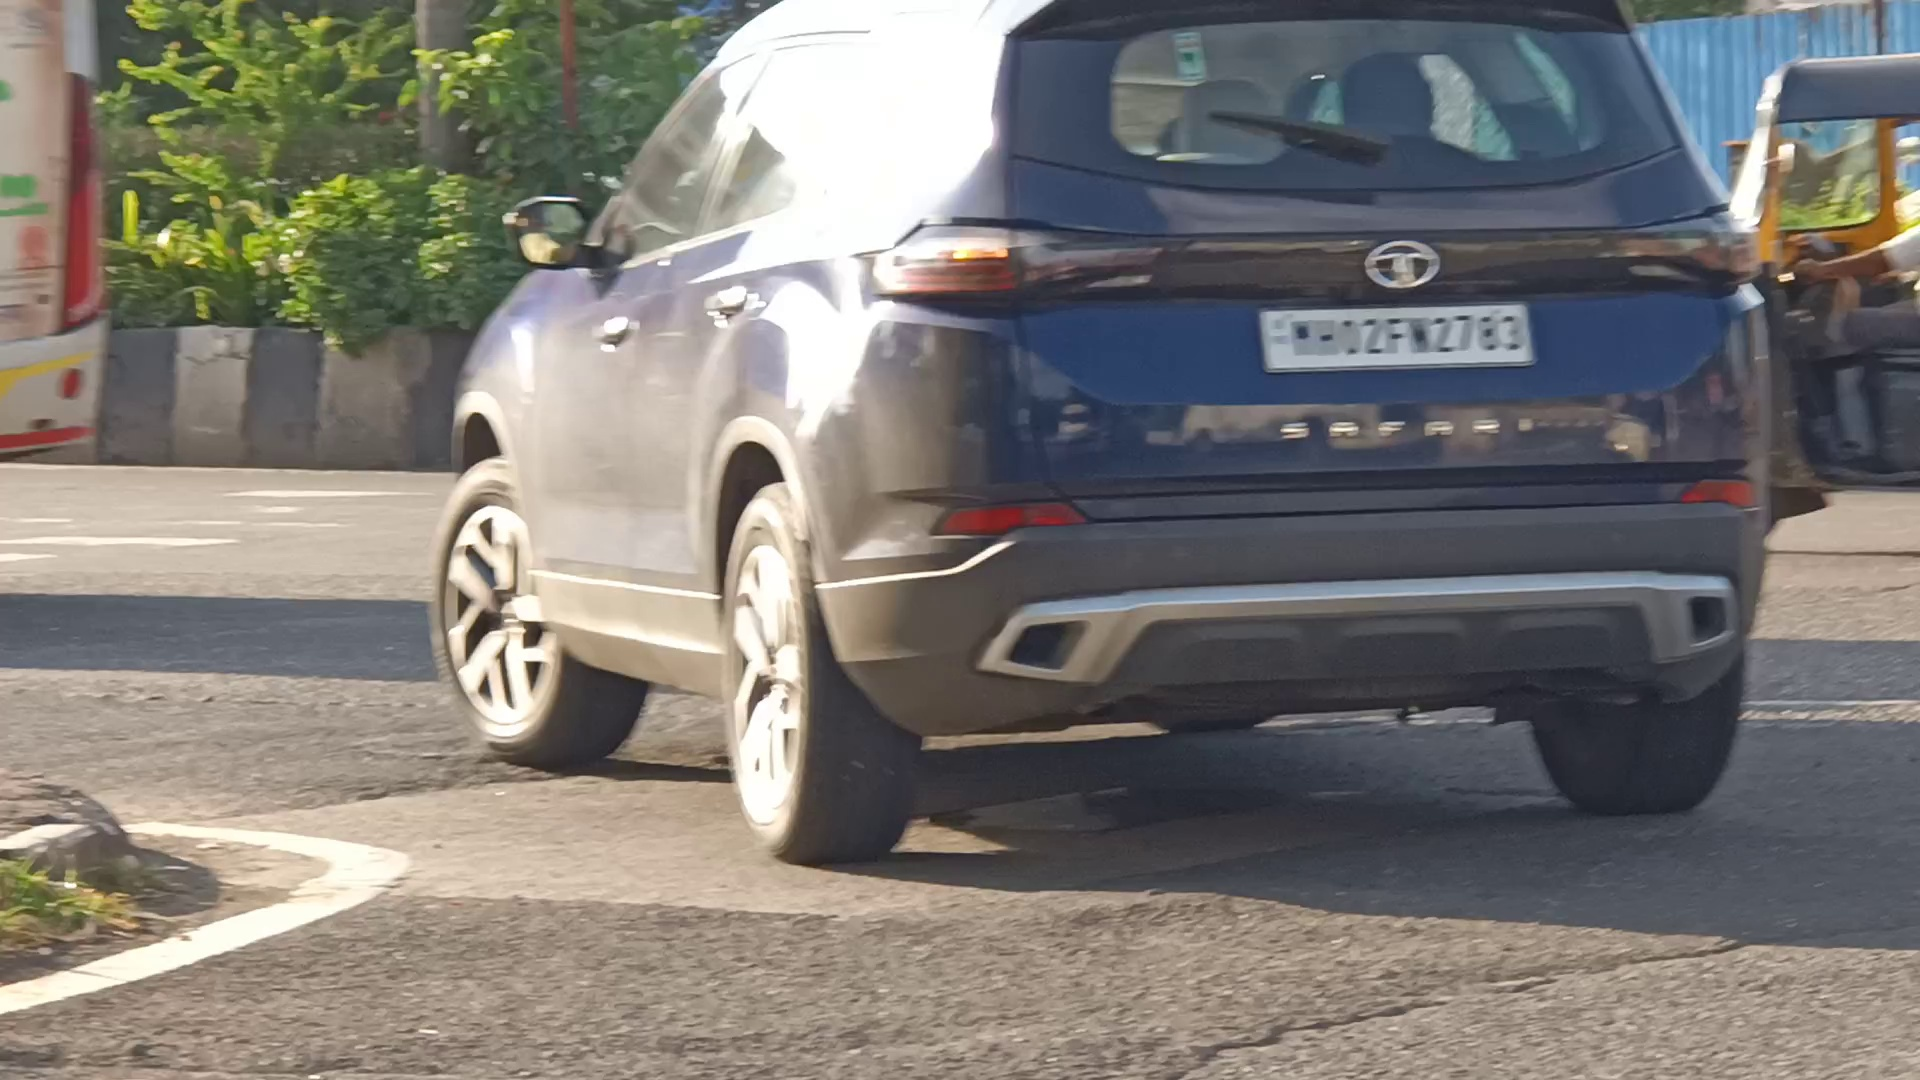MH02FN2783: (1259, 299, 1536, 372)
